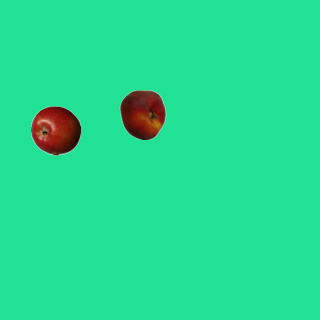Apple Braeburn: (30, 105, 80, 155)
Nectarine Flat: (117, 89, 167, 139)
